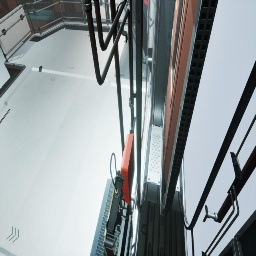EmergencyPhone ,: (103, 152, 127, 256)
FireAlarm ,: (121, 133, 135, 206)
SafetySwitchPanel ,: (144, 0, 154, 48)
